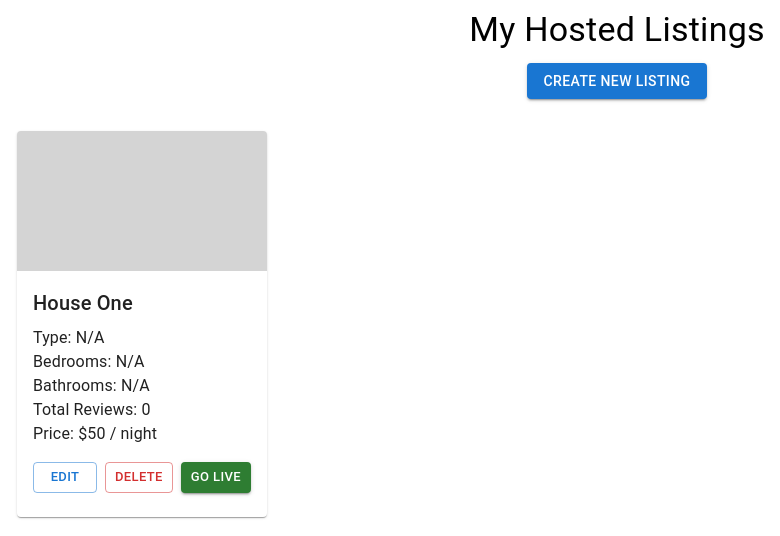
Test case: HostedListings Component › delete button removes listing
The width and height of the screenshot is (780, 536).
Click the button "Delete". click: (139, 478)
box: [105, 462, 173, 493]
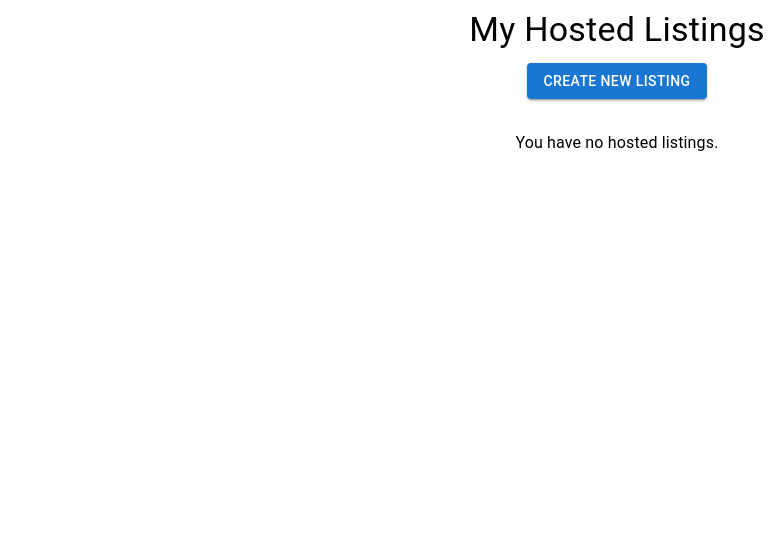
Expected: the heading "House One" is gone
